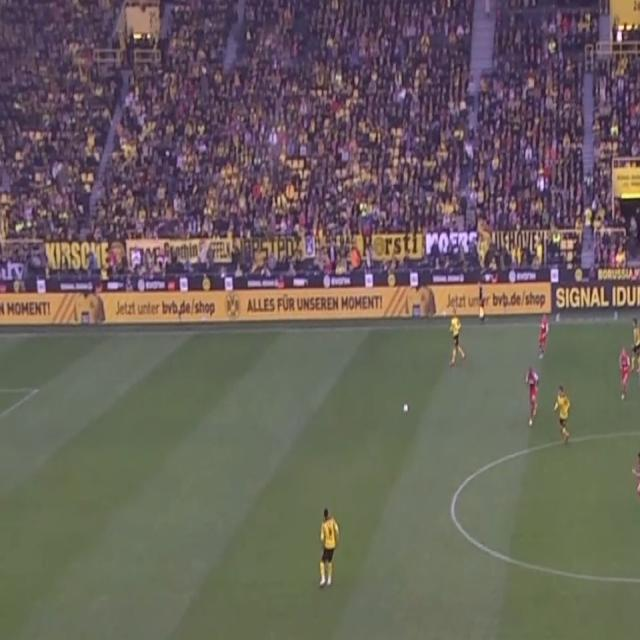ball: (402, 402, 409, 414)
